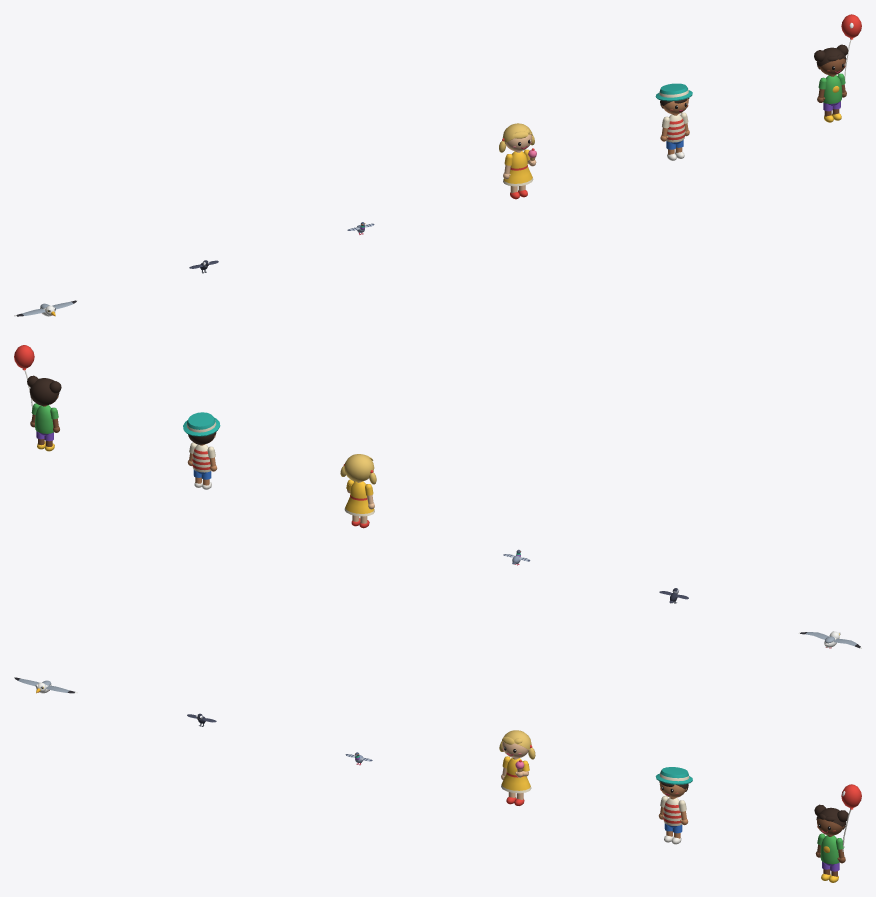
File: creatures.glb
3 renders of one model, top to bottom at view 1: azimuth 30°, elevation 25°; view 2: azimuth 150°, elevation 25°; view 3: azimuth 330°, elevation 25°, orthographic.
Parts seen in each view (by area): view 1: visitor_a_body, visitor_b_head, visitor_c_head, visitor_c_body, visitor_a_head, visitor_b_body, visitor_c_arm_L; view 2: visitor_b_head, visitor_a_body, visitor_a_head, visitor_c_head, visitor_c_body, visitor_b_body; view 3: visitor_b_head, visitor_a_body, visitor_c_head, visitor_a_head, visitor_c_body, visitor_b_body, visitor_c_arm_L.
Part boxes in pixels (bbox=[...]): visitor_a_body: bbox=[503, 151, 533, 199]; visitor_b_head: bbox=[655, 83, 692, 114]; visitor_c_head: bbox=[814, 44, 848, 75]; visitor_c_body: bbox=[823, 75, 842, 122]; visitor_a_head: bbox=[499, 123, 534, 152]; visitor_b_body: bbox=[666, 114, 685, 160]; visitor_c_arm_L: bbox=[837, 14, 861, 97]; visitor_b_head: bbox=[183, 412, 220, 444]; visitor_a_body: bbox=[344, 481, 374, 528]; visitor_a_head: bbox=[340, 454, 376, 484]; visitor_c_head: bbox=[27, 375, 61, 405]; visitor_c_body: bbox=[35, 405, 54, 451]; visitor_b_body: bbox=[192, 444, 211, 489]; visitor_b_head: bbox=[655, 767, 692, 797]; visitor_a_body: bbox=[501, 758, 531, 805]; visitor_c_head: bbox=[814, 804, 848, 835]; visitor_a_head: bbox=[499, 730, 535, 759]; visitor_c_body: bbox=[820, 835, 839, 882]; visitor_b_body: bbox=[663, 797, 682, 844]; visitor_c_arm_L: bbox=[836, 784, 861, 863].
Size of the model in its own units: 32.31 by 3.78 by 1.23.
